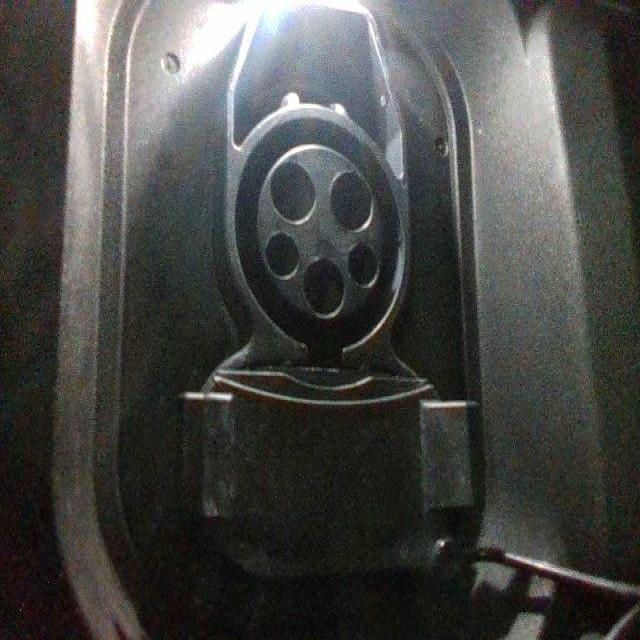Type 1: (242, 130, 416, 344)
